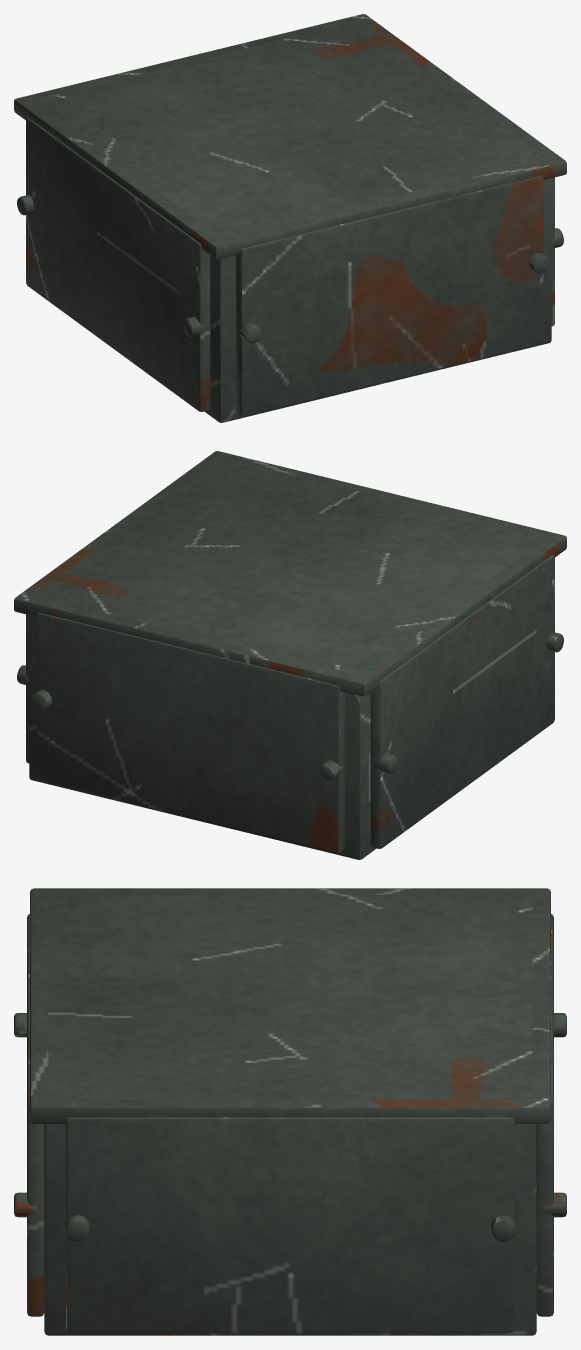
The model's file is cable_junction.glb.
The picture shows the model from 3 angles, top to bottom: view 1: azimuth 30°, elevation 25°; view 2: azimuth 150°, elevation 25°; view 3: azimuth 270°, elevation 25°; orthographic projection. The views are drawn at different scales.
Parts seen in each view (by area): view 1: CJ_junction; view 2: CJ_junction; view 3: CJ_junction.
Part boxes in pixels (<box>): CJ_junction: <box>14,14,566,422</box>; CJ_junction: <box>14,451,566,859</box>; CJ_junction: <box>14,888,566,1335</box>.
Bounding box in the file's own units: 0.382 × 0.19 × 0.382.
1 material, 1 textured.
